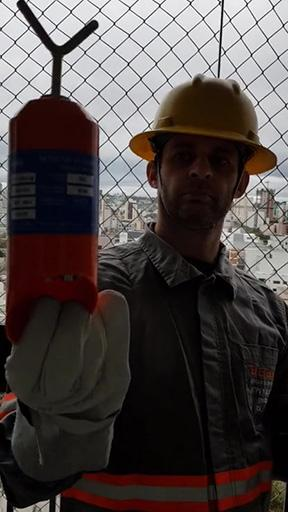Detector_Tensao_Contato: (4, 1, 102, 349)
